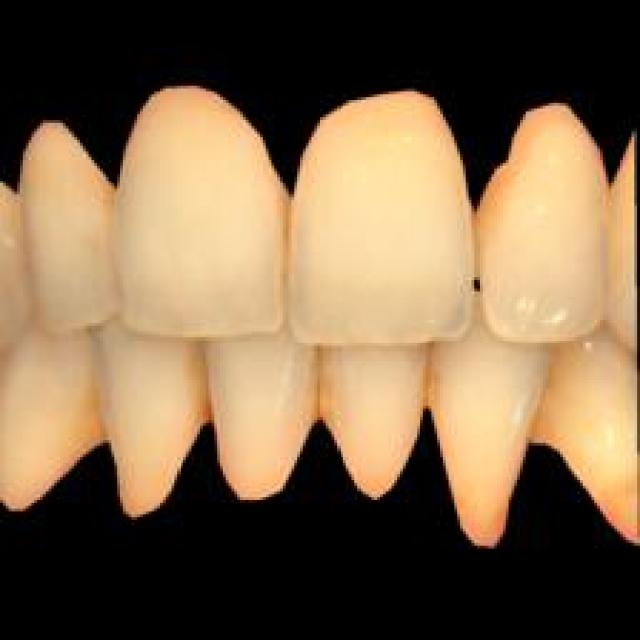cavity: (177, 346, 217, 420), (303, 346, 334, 420), (75, 383, 112, 443), (460, 503, 509, 548), (603, 483, 637, 543), (414, 354, 443, 409), (274, 200, 294, 266), (532, 406, 557, 440), (549, 346, 577, 371)
tooth: (280, 86, 469, 346), (111, 88, 283, 326), (472, 83, 597, 340), (428, 343, 568, 546), (92, 332, 217, 514), (17, 120, 123, 323), (206, 337, 314, 500), (554, 346, 637, 551), (3, 323, 88, 511), (317, 340, 414, 497)
